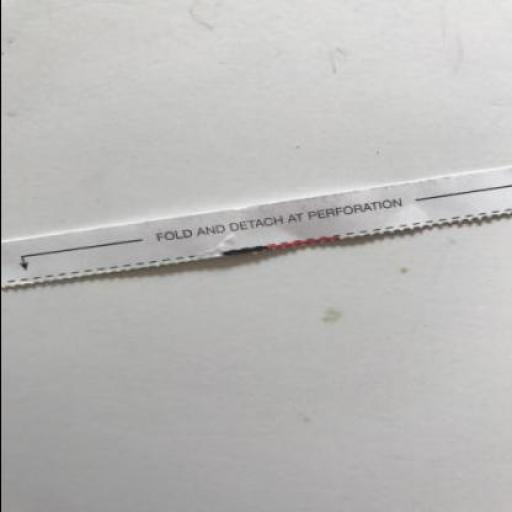paper: (1, 165, 511, 290)
